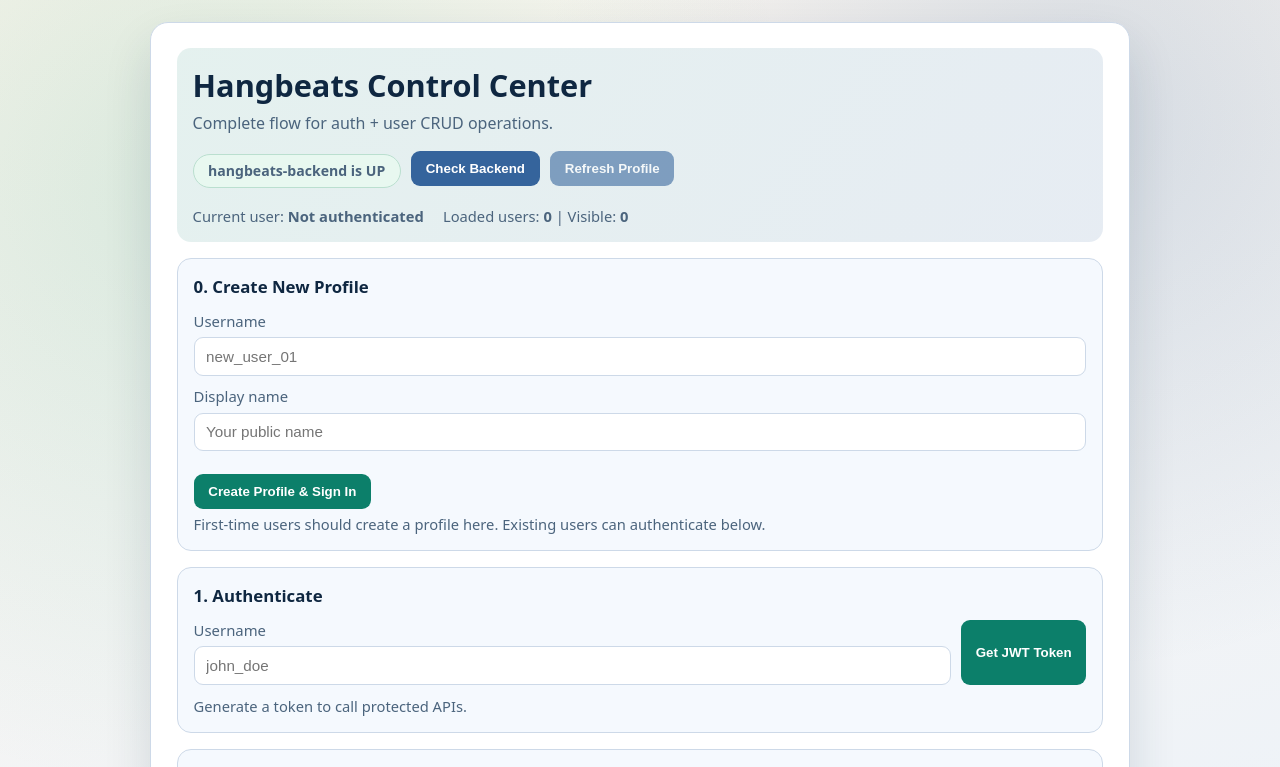
Scenario: App › creates a new profile and signs in
Type "newuser" into the field with placeholder "new_user_01" below "0. Create New Profile". click: (640, 356)
box: [194, 337, 1086, 376]
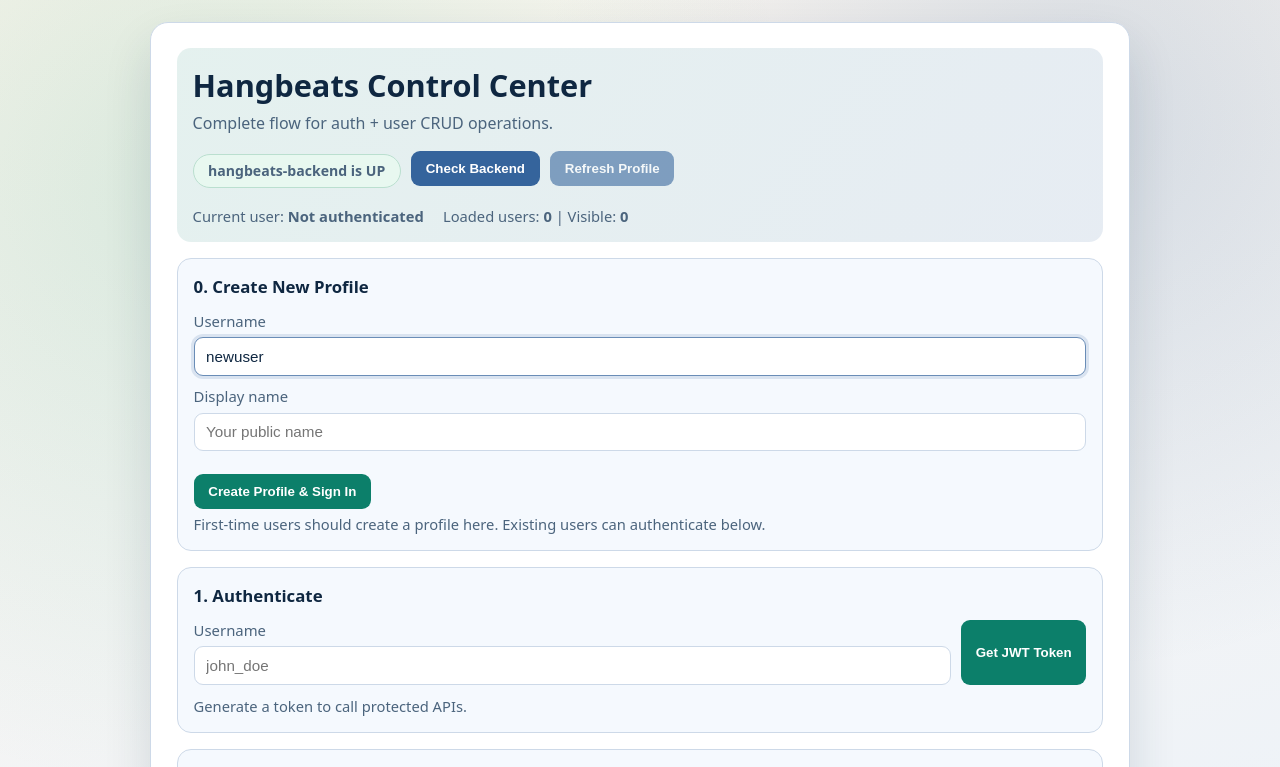
Type "New User" into the field with placeholder "Your public name". click: (640, 432)
box: [194, 413, 1086, 451]
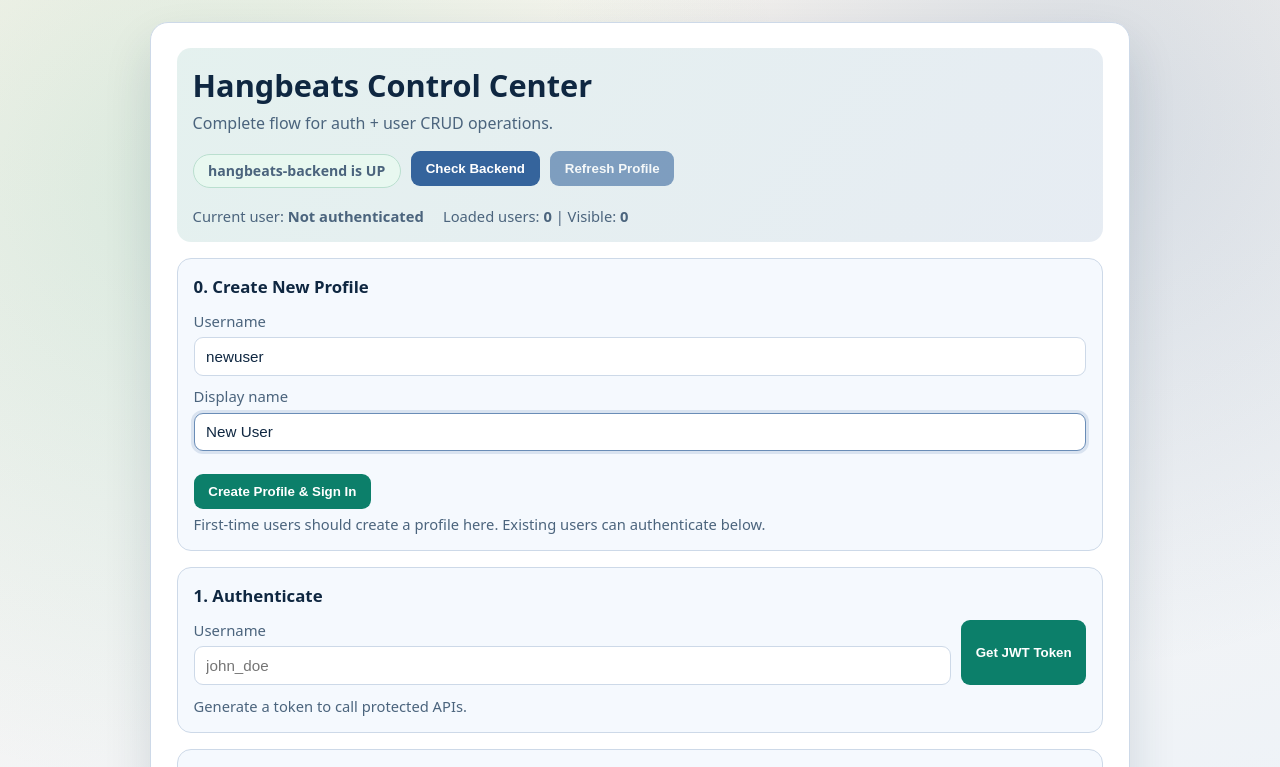
Click the button "Create Profile & Sign In". click: (282, 491)
box: [194, 474, 371, 509]
(page scrolled)
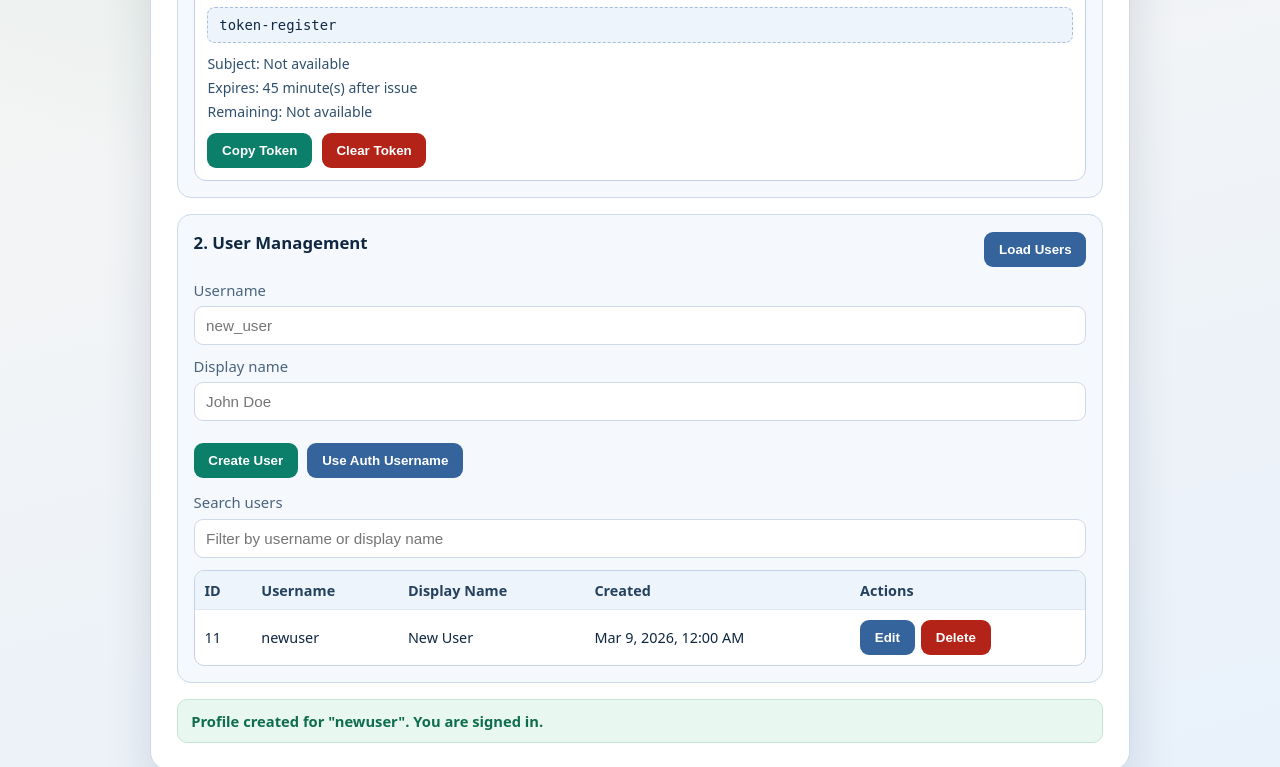
Check: the text "Profile created for \"newuser\". You are signed in." is shown, box [177, 699, 1103, 744]
